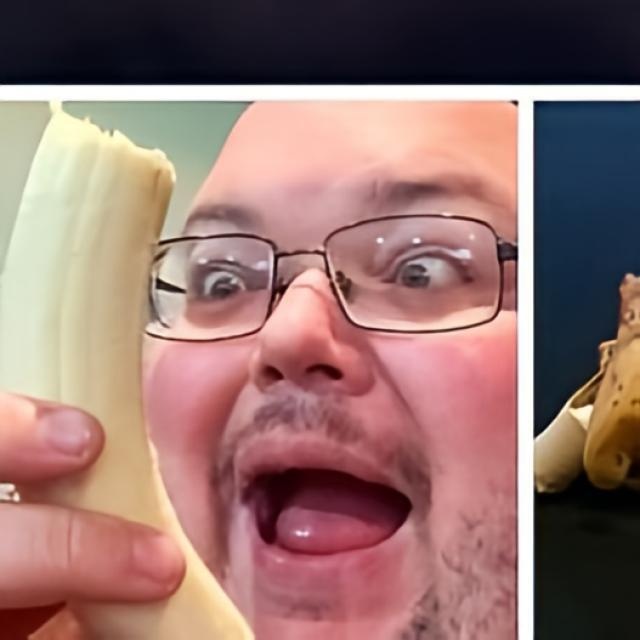fear: (138, 99, 517, 640)
